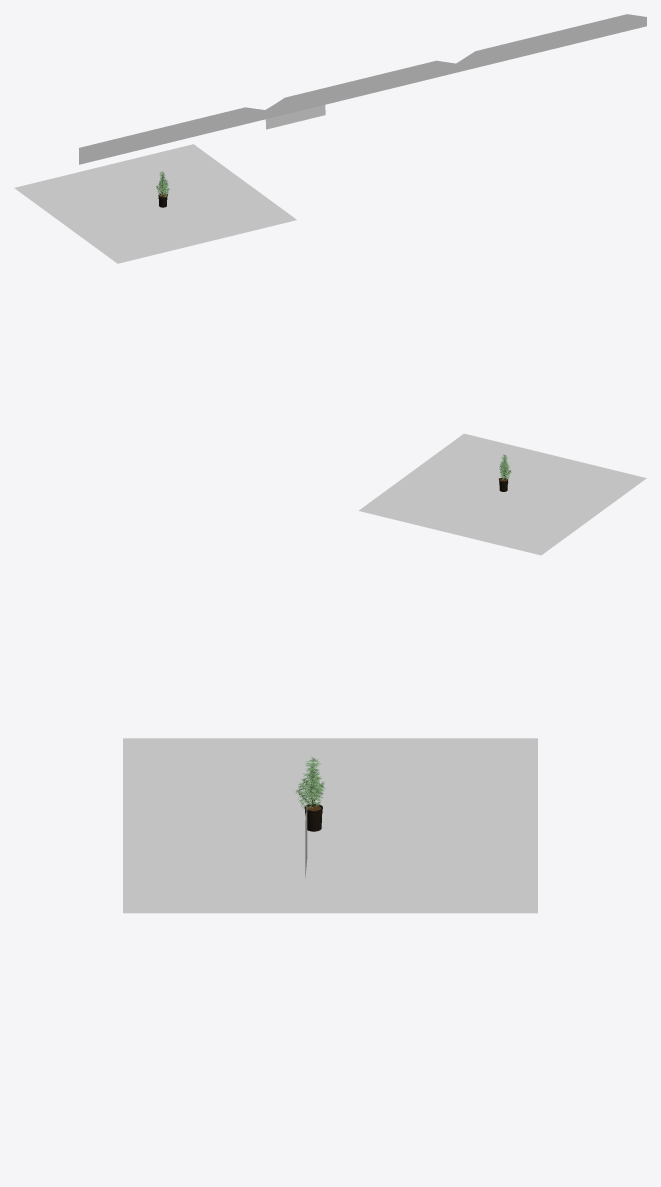
The model's file is planeToImport.glb.
3 renders of one model, top to bottom at view 1: azimuth 30°, elevation 25°; view 2: azimuth 150°, elevation 25°; view 3: azimuth 270°, elevation 25°, orthographic. The views are drawn at different scales.
Visible parts, largest first — view 1: Plane.001, Plane; view 2: Plane.001; view 3: Plane.001, PlasticPot.
Boxes of the visible parts, x1=… form: Plane.001: x1=14, y1=144, x2=296, y2=263; Plane: x1=79, y1=14, x2=646, y2=164; Plane.001: x1=358, y1=433, x2=646, y2=555; Plane.001: x1=123, y1=738, x2=537, y2=913; PlasticPot: x1=295, y1=756, x2=325, y2=831.
Size of the model in its own units: 72.25 by 9.66 by 22.56.
Materials: 4 (1 with a texture image).
